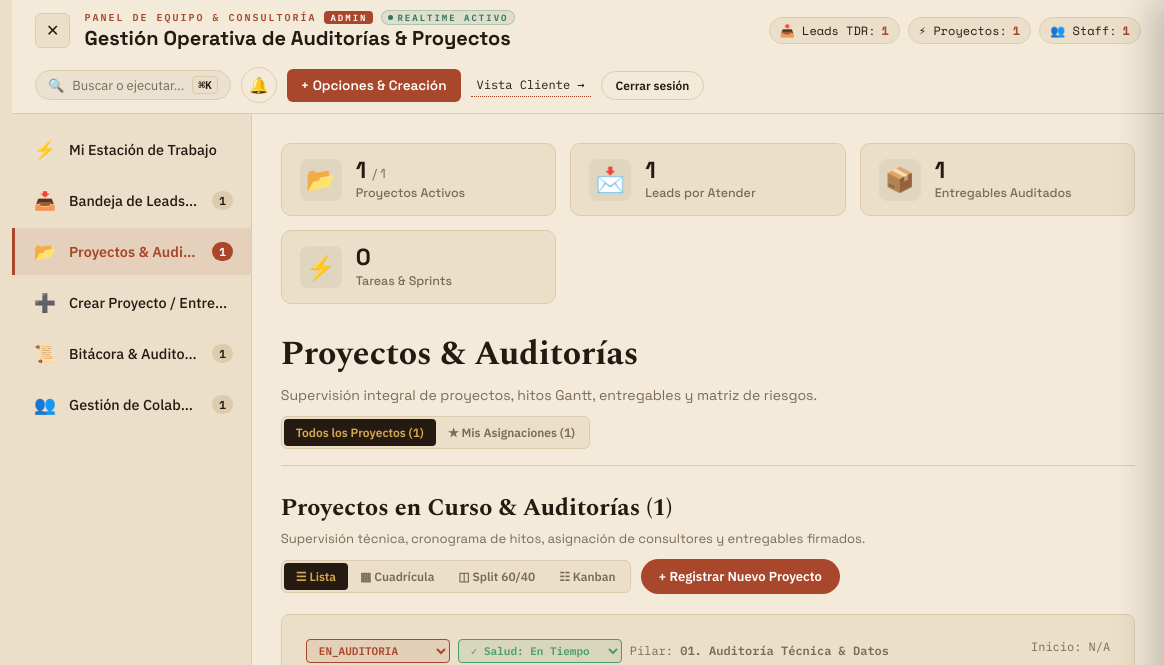
Scenario: Equipo Console Component › permite alternar hacia la estación de trabajo desde las pestañas
Click the tab "⚡ Mi Estación de Trabajo": (132, 150) [12,126,251,173]
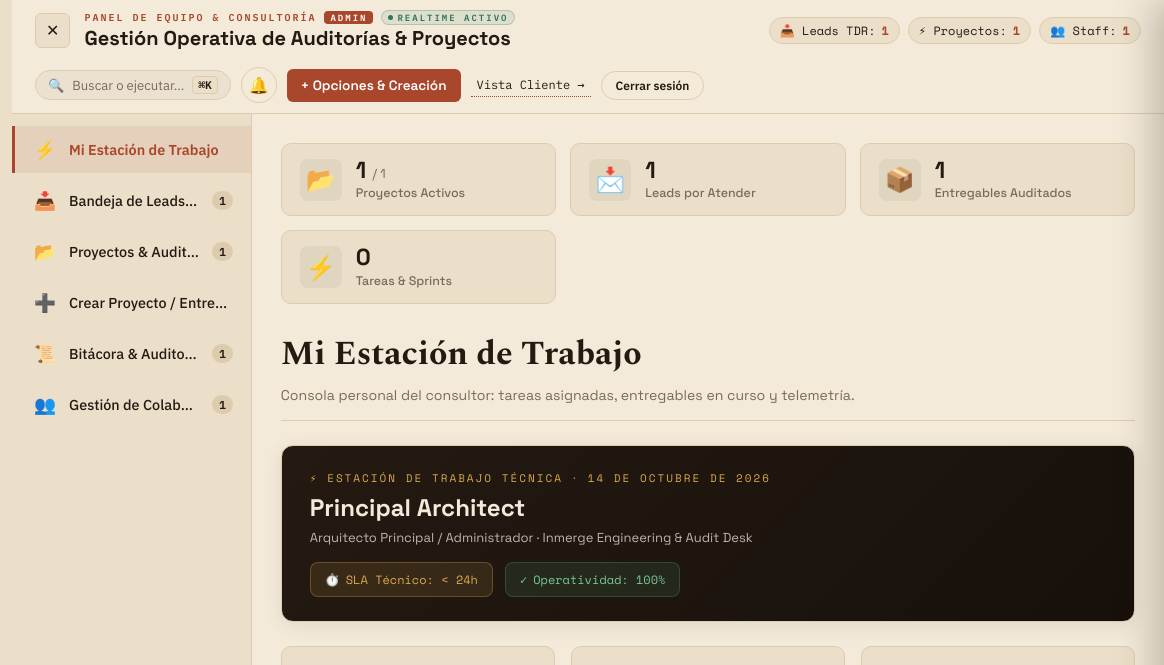
Check: the text "⚡ ESTACIÓN DE TRABAJO TÉCNICA" is shown, box [310,470,563,486]
Check: the heading "Principal Architect" is shown, box [310,492,525,523]
